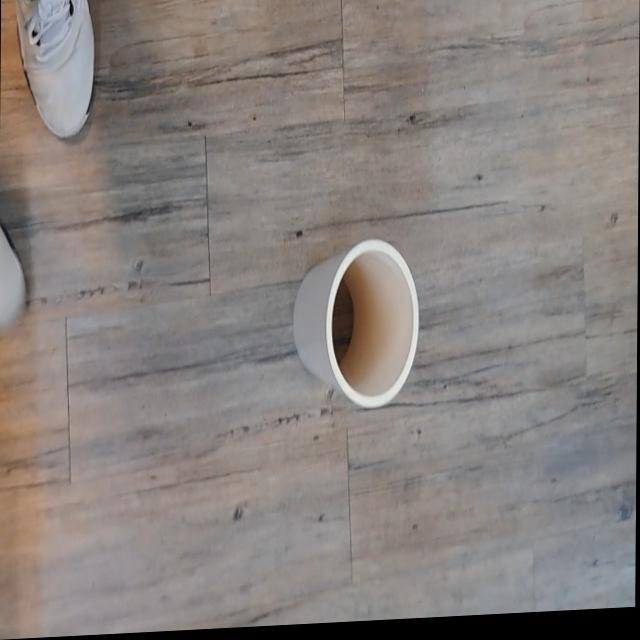CORAL: (272, 203, 433, 419)
